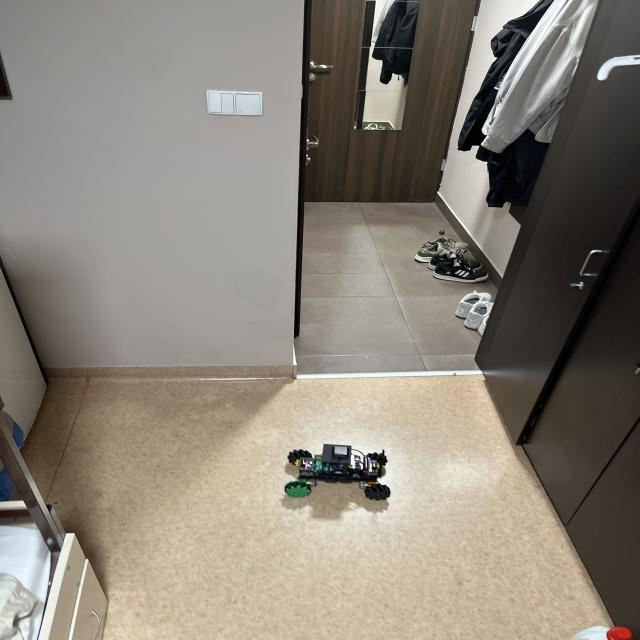robot: (285, 444, 390, 500)
